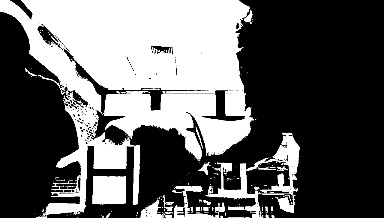H: (77, 140, 138, 206)
